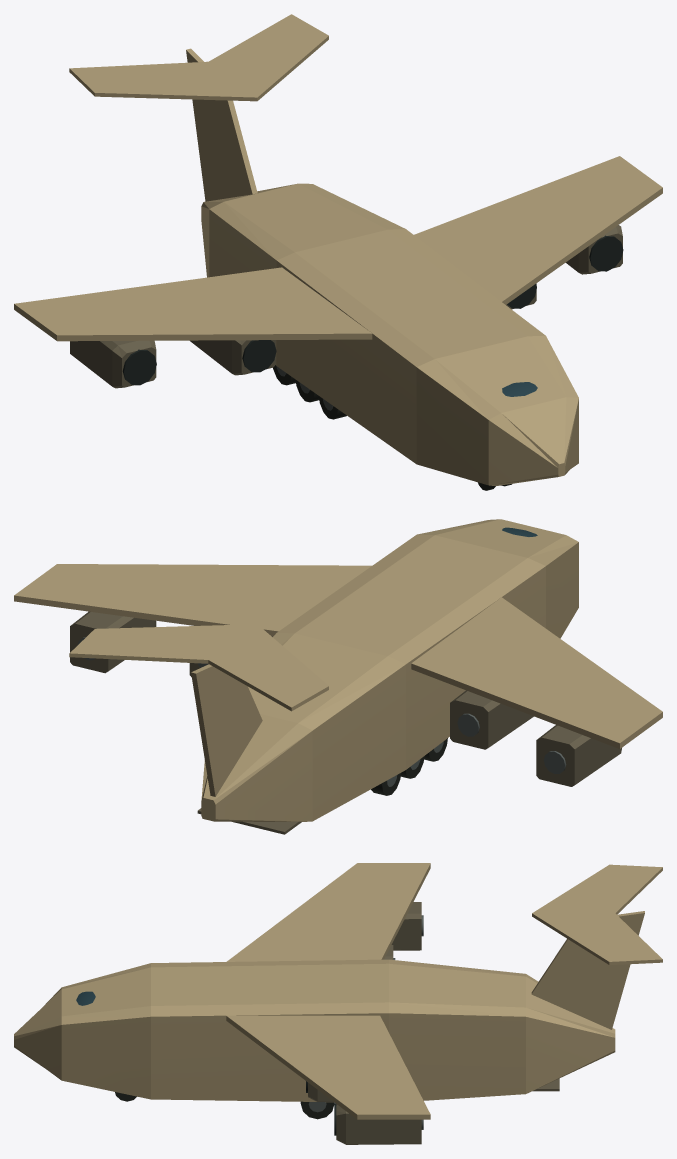
The model's file is cargoPlane.glb.
The picture shows the model from 3 angles, top to bottom: view 1: azimuth 30°, elevation 25°; view 2: azimuth 150°, elevation 25°; view 3: azimuth 270°, elevation 25°; orthographic projection. The views are drawn at different scales.
Visible parts, largest first — view 1: armor, equipment (×4); view 2: armor, equipment (×5); view 3: armor, equipment (×3).
Part boxes in pixels (x1=…): armor: x1=14, y1=14, x2=662, y2=486; equipment (×4): x1=70, y1=225, x2=623, y2=490; armor: x1=14, y1=519, x2=662, y2=821; equipment (×5): x1=70, y1=611, x2=621, y2=834; armor: x1=14, y1=863, x2=662, y2=1119; equipment (×3): x1=115, y1=902, x2=423, y2=1144.
Size of the model in its own units: 30 by 10.2 by 32.7.
